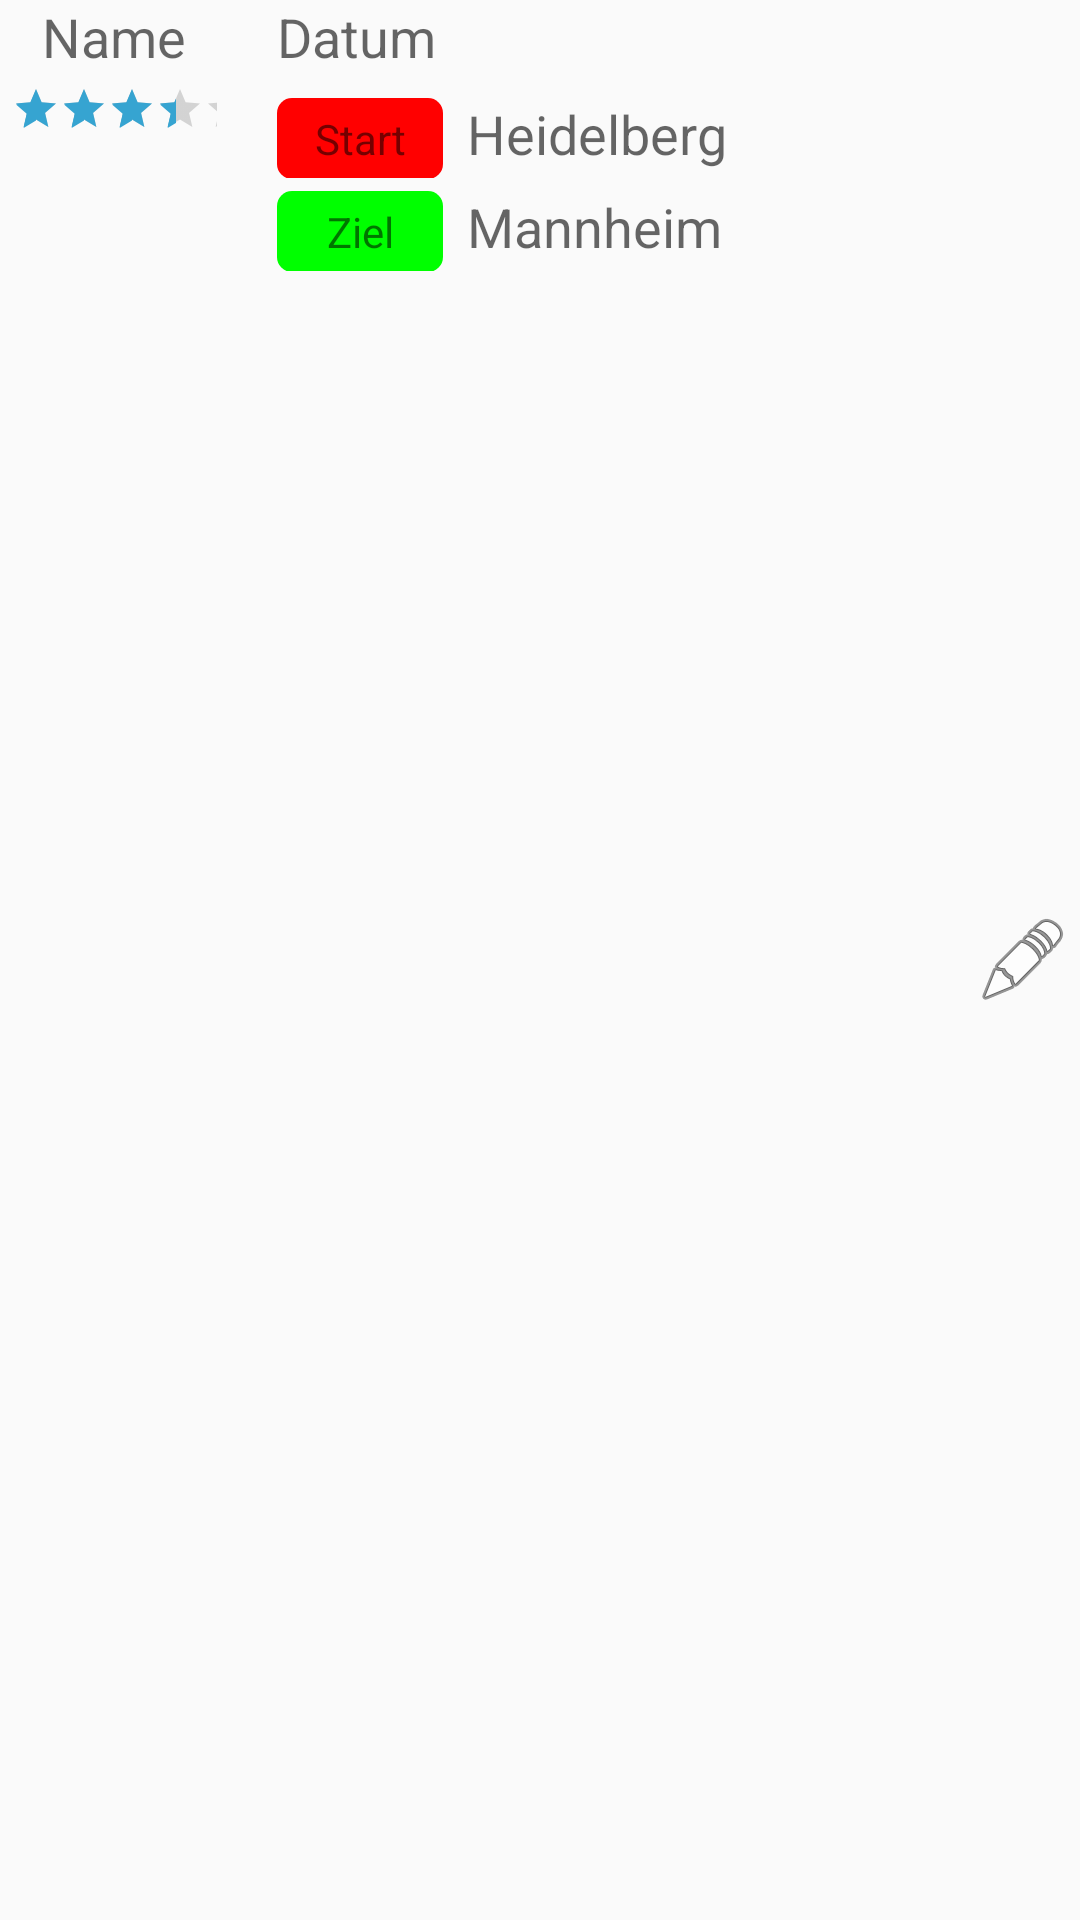

Icons on this 1080×1920 Android screen, each with the point to tap as point (x, y):
edit: point (1022, 959)
